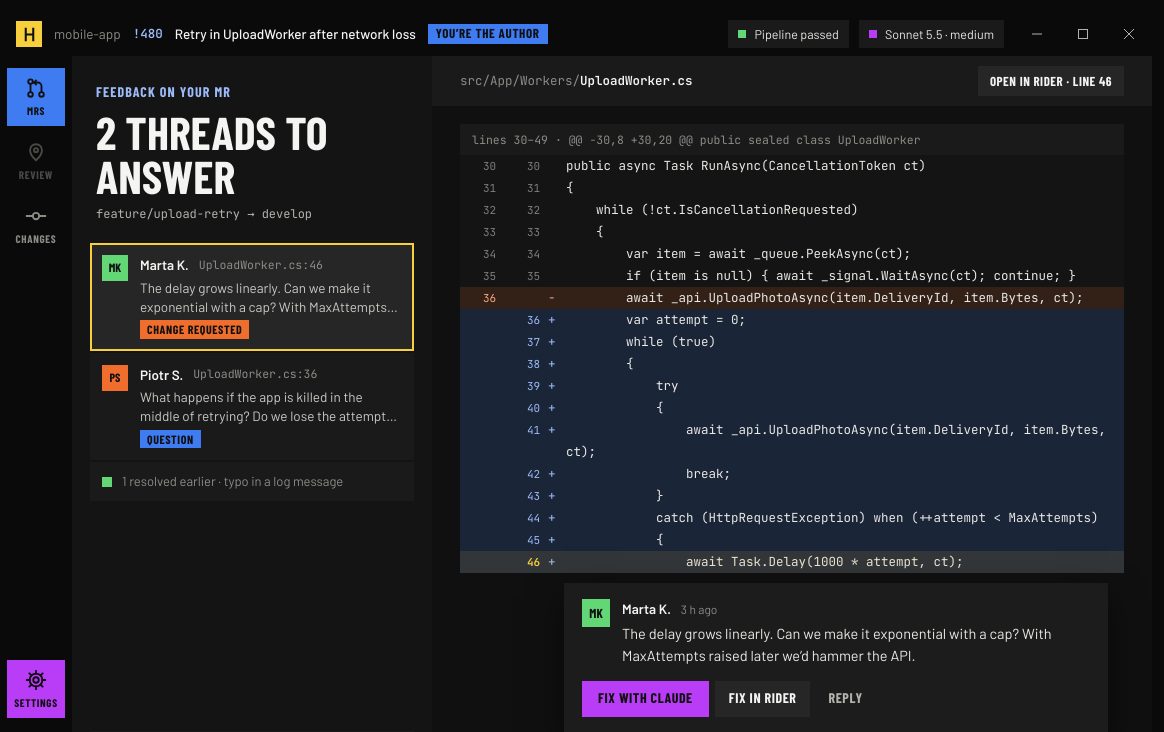
Scenario: S-10 question thread: reply composer (F-26.7) › F-26.7 a second draft replaces the text in the area, as the mock does
Click the option that starts with "Piotr S.".
click(252, 406)  # box [90,353,414,460]
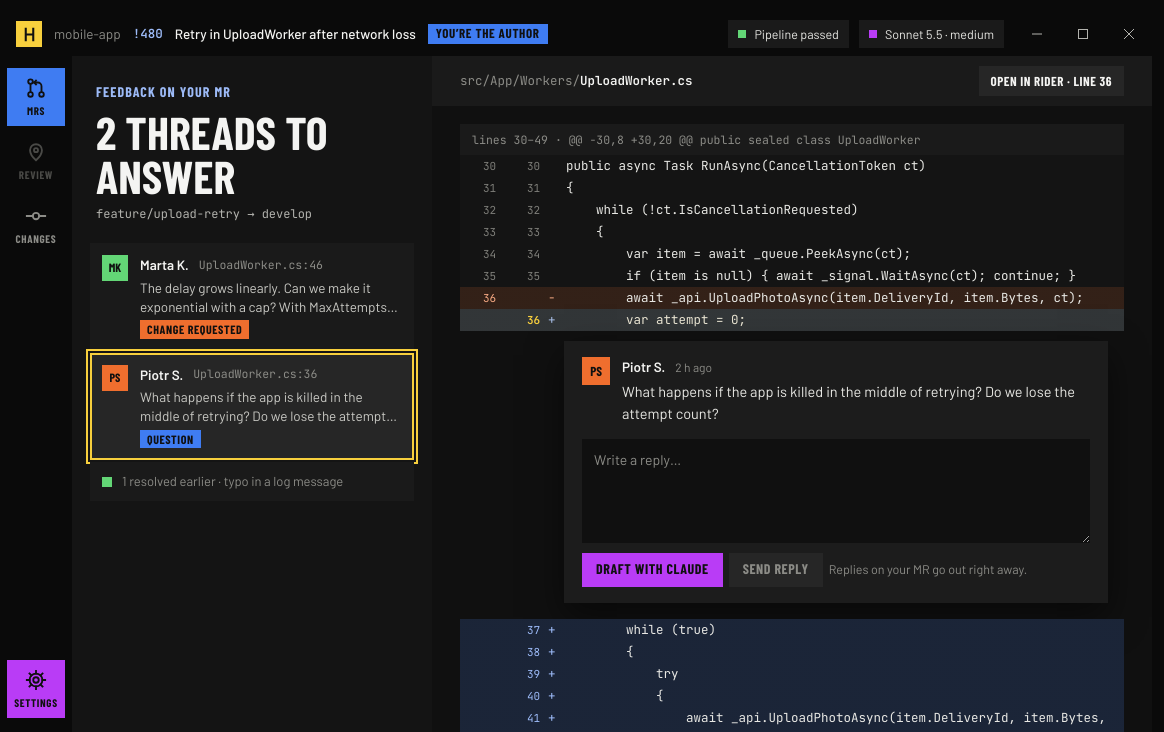
expect the button "Open in Rider · line 36" is shown: met, box [978,66,1124,96]
expect the text "What happens if the app is killed in the middle of retrying?" below "2 h ago" is shown: met, box [622,382,1078,422]
Click the button "Draft with Claude".
click(652, 570)  # box [582,552,723,586]
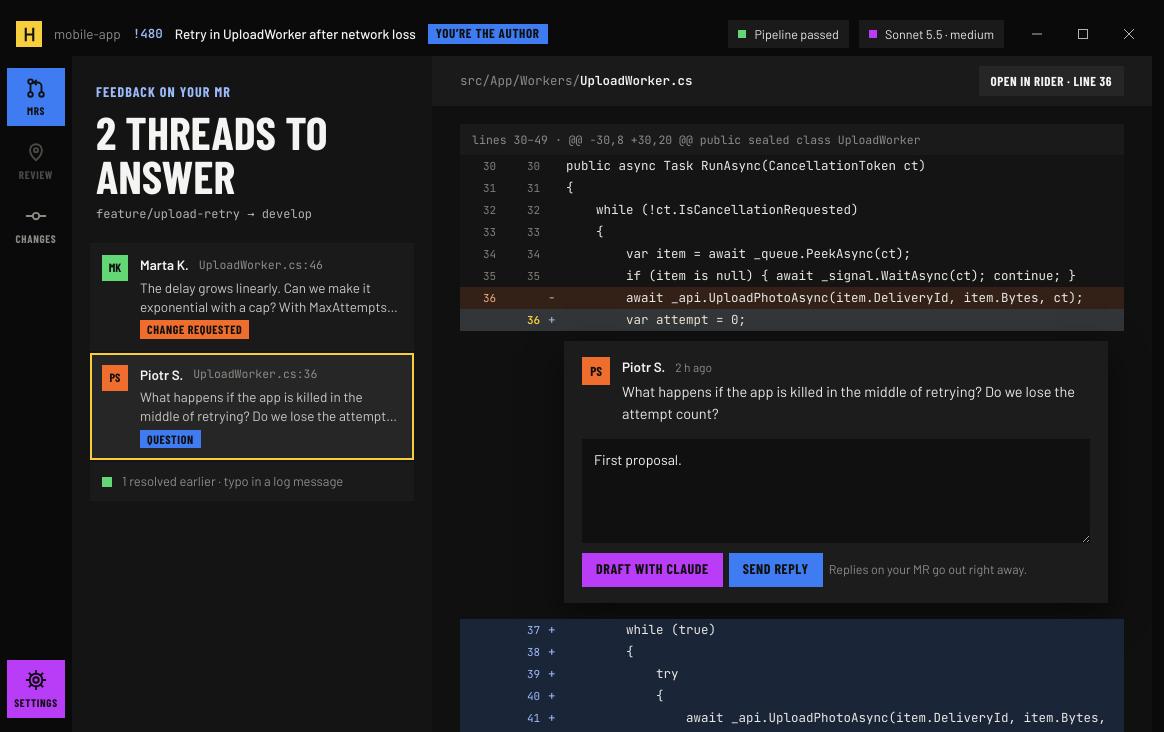
expect the text box holds "First proposal.": met, box [582,438,1090,542]
Click the button "Draft with Claude".
click(652, 570)  # box [582,552,723,586]
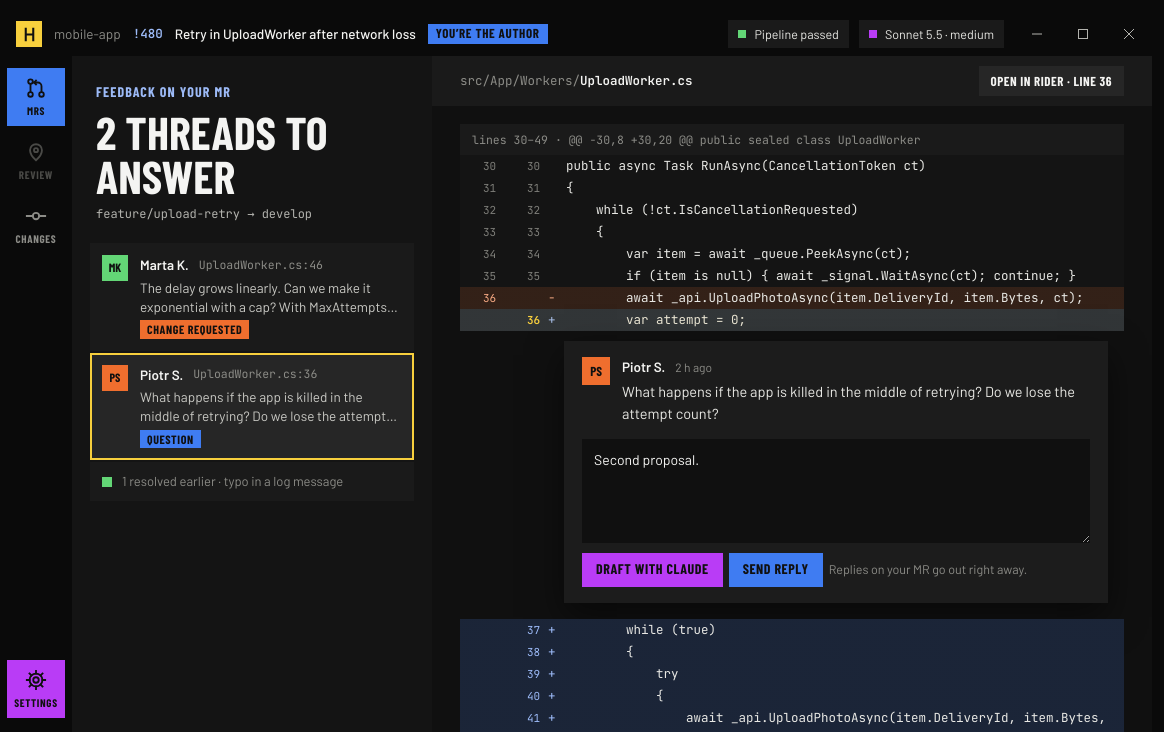
expect the text box holds "Second proposal.": met, box [582,438,1090,542]
